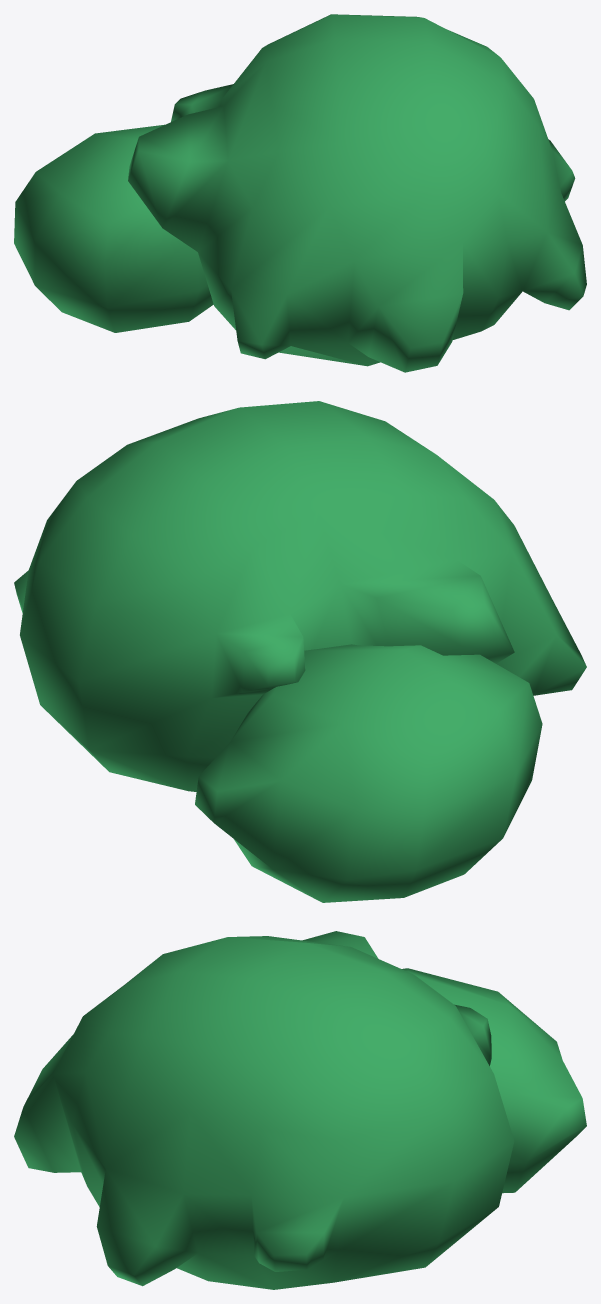
File: Bush_A_01_LOD2.gltf
The picture shows the model from 3 angles, top to bottom: view 1: azimuth 30°, elevation 25°; view 2: azimuth 150°, elevation 25°; view 3: azimuth 270°, elevation 25°; orthographic projection. The views are drawn at different scales.
Parts seen in each view (by area): view 1: Bush_A_01_LOD2_Cube.798; view 2: Bush_A_01_LOD2_Cube.798; view 3: Bush_A_01_LOD2_Cube.798.
Boxes of the visible parts, left/top/right/bottom form: Bush_A_01_LOD2_Cube.798: left=14, top=14, right=586, bottom=372; Bush_A_01_LOD2_Cube.798: left=14, top=401, right=586, bottom=902; Bush_A_01_LOD2_Cube.798: left=14, top=931, right=586, bottom=1289.
Bounding box in the file's own units: 5.33 × 2.99 × 5.2.
1 material, 1 textured.
